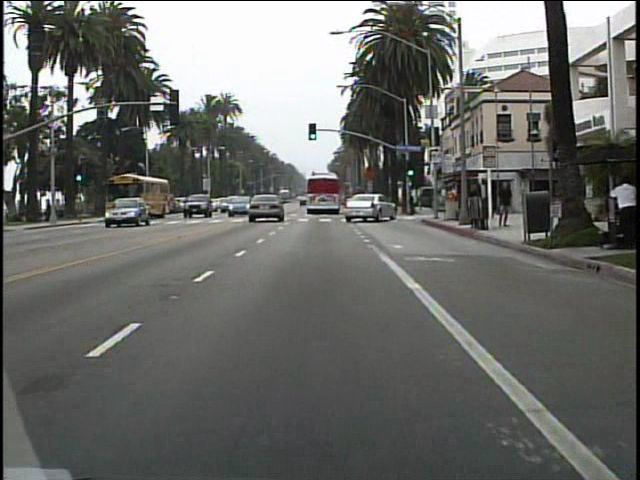person: (606, 175, 634, 249), (495, 178, 515, 232), (467, 181, 484, 225), (445, 182, 459, 222)
